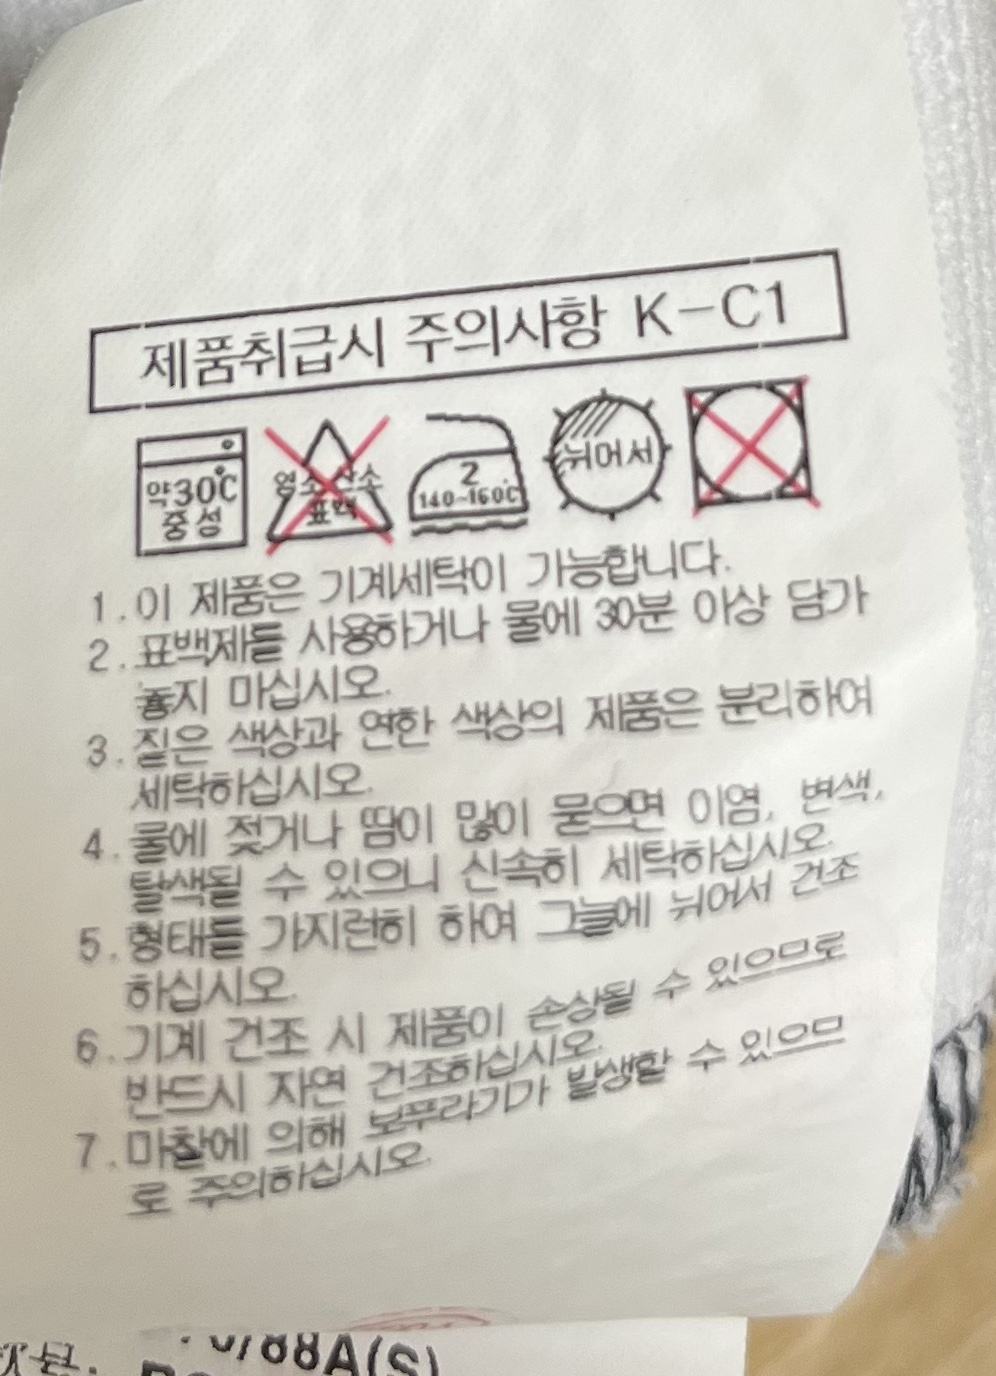30C: (119, 415, 262, 564)
DN_bleach: (256, 403, 406, 558)
DN_tumble_dry: (675, 360, 835, 522)
dry_flat_in_shade: (538, 375, 676, 527)
iron_low: (398, 397, 540, 540)
